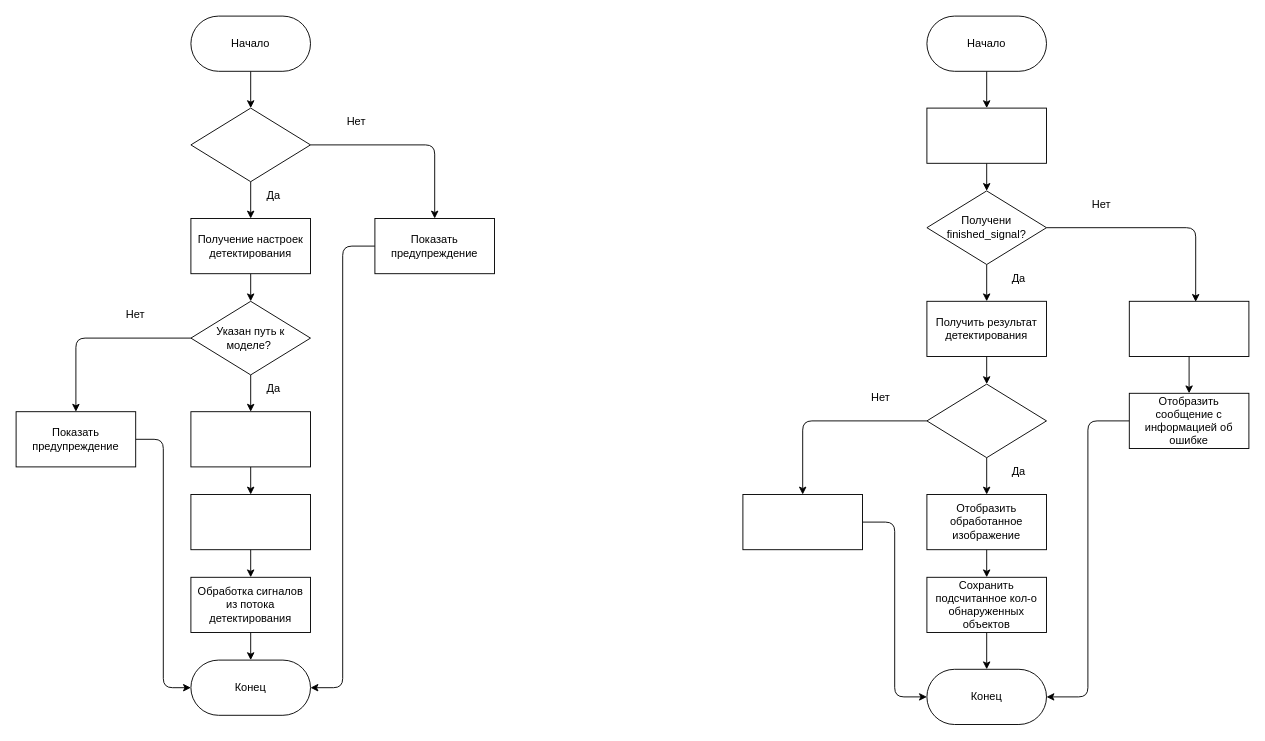
The diagram is 1265 pixels wide and 741 high, and some of its shapes have lost their labels. Each missing label, with the box of its shape:
Загруженно изображение?: (190, 107, 310, 182)
Загрузка классов объектов из файла: (190, 411, 310, 467)
Запуск потока детектирования: (190, 494, 310, 550)
Отобразить сообщение что не обнаружены объекты: (742, 494, 862, 550)
Получение сигнала из потока детектирования: (926, 107, 1046, 163)
Получить сообщение об ошибке: (1128, 300, 1249, 356)
Проверка на пустоту результата: (926, 383, 1046, 458)
